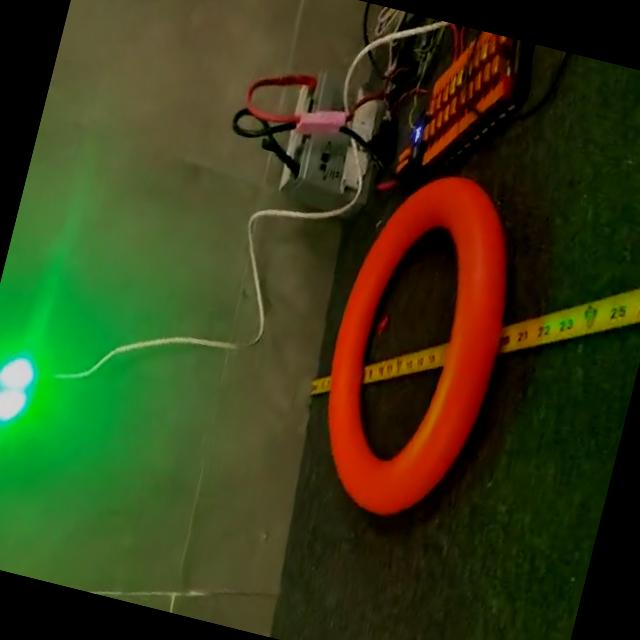note: (294, 153, 542, 538)
